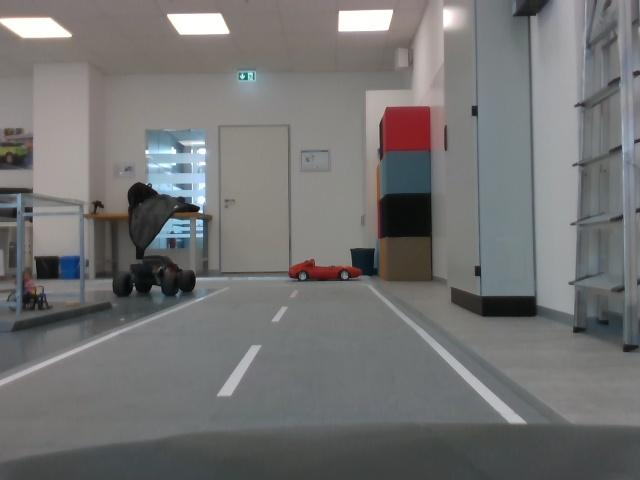car: (110, 254, 200, 301), (284, 258, 363, 289)
person: (7, 267, 53, 314)
